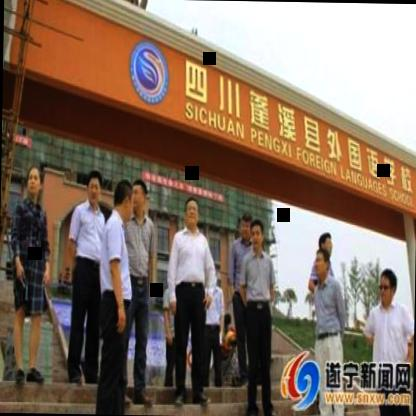head: (22, 158, 46, 202), (110, 176, 132, 222), (374, 265, 397, 306), (130, 174, 150, 216), (181, 194, 200, 238), (84, 168, 104, 206), (313, 246, 331, 283), (247, 217, 264, 254), (318, 229, 334, 259), (238, 212, 251, 242)
